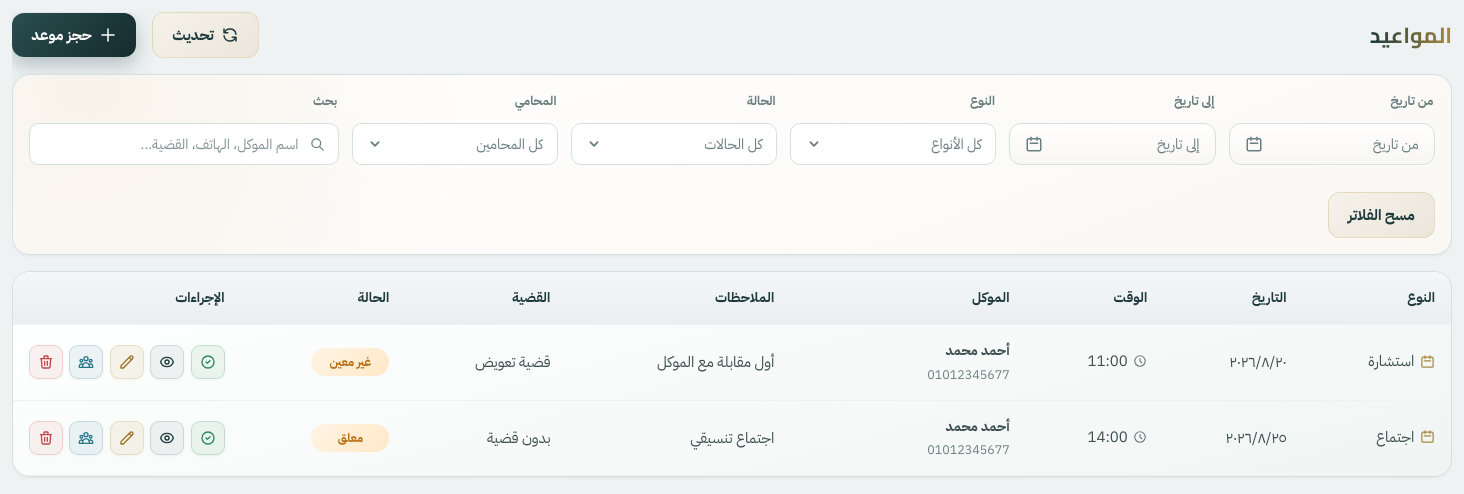
AppointmentsPage Feature Tests › filters appointments by search query
Expected: the text "أول مقابلة مع الموكل" is shown, [566, 324, 790, 400]
Expected: the text "اجتماع تنسيقي" is shown, [566, 400, 790, 476]
Type "تنسيقي" into the search field with placeholder "اسم الموكل، الهاتف، القضية...". click: coordinates (184, 144)
box: [29, 123, 339, 165]
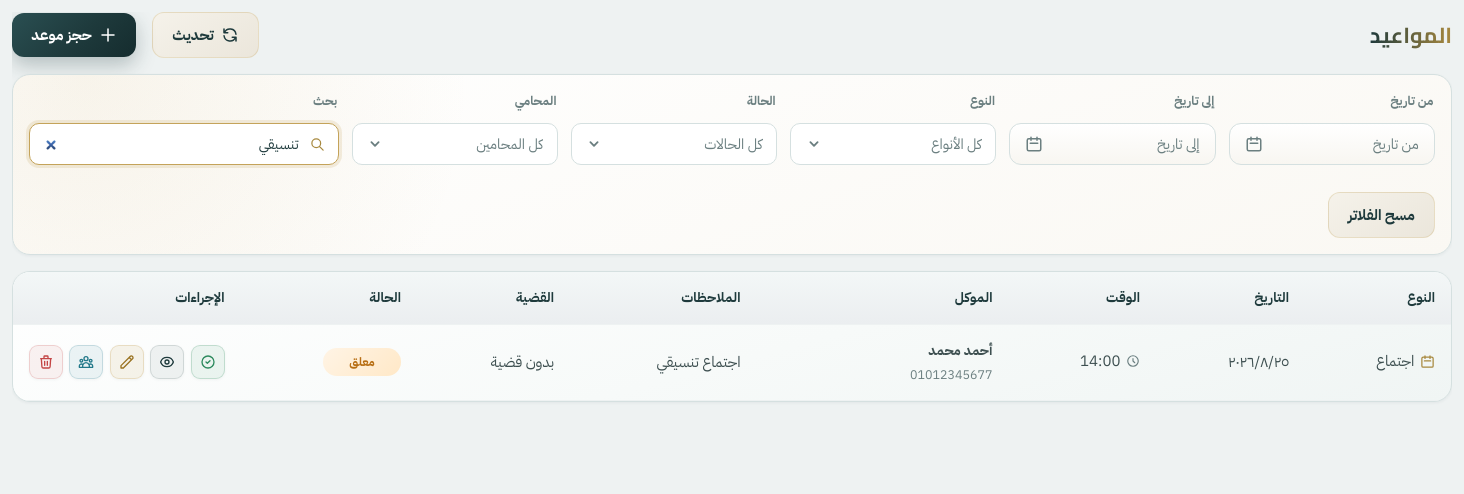
Expected: the text "اجتماع تنسيقي" is shown, [570, 324, 757, 400]
Now the text "أول مقابلة مع الموكل" is gone
